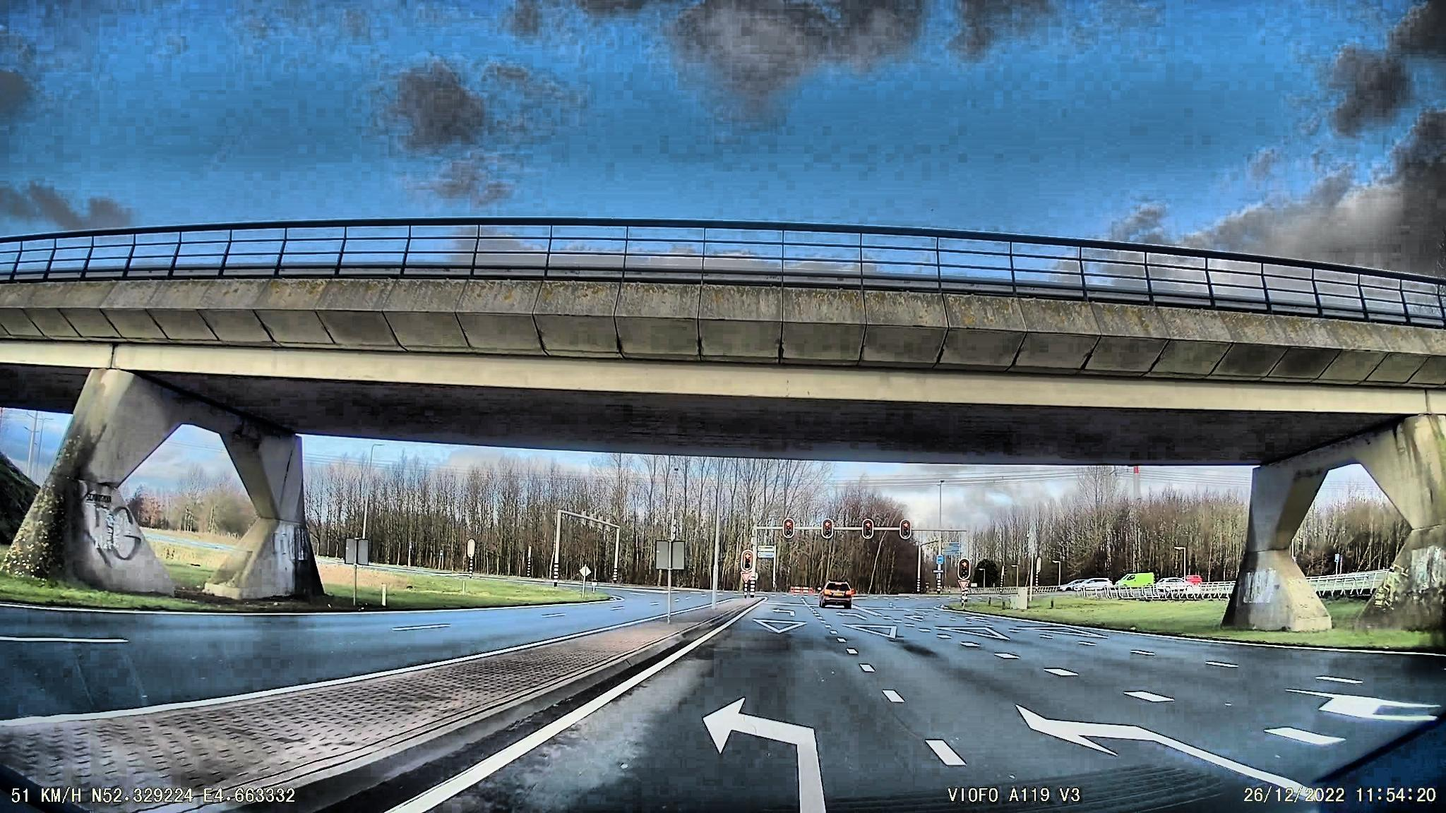Roads: (419, 602, 1446, 813)
